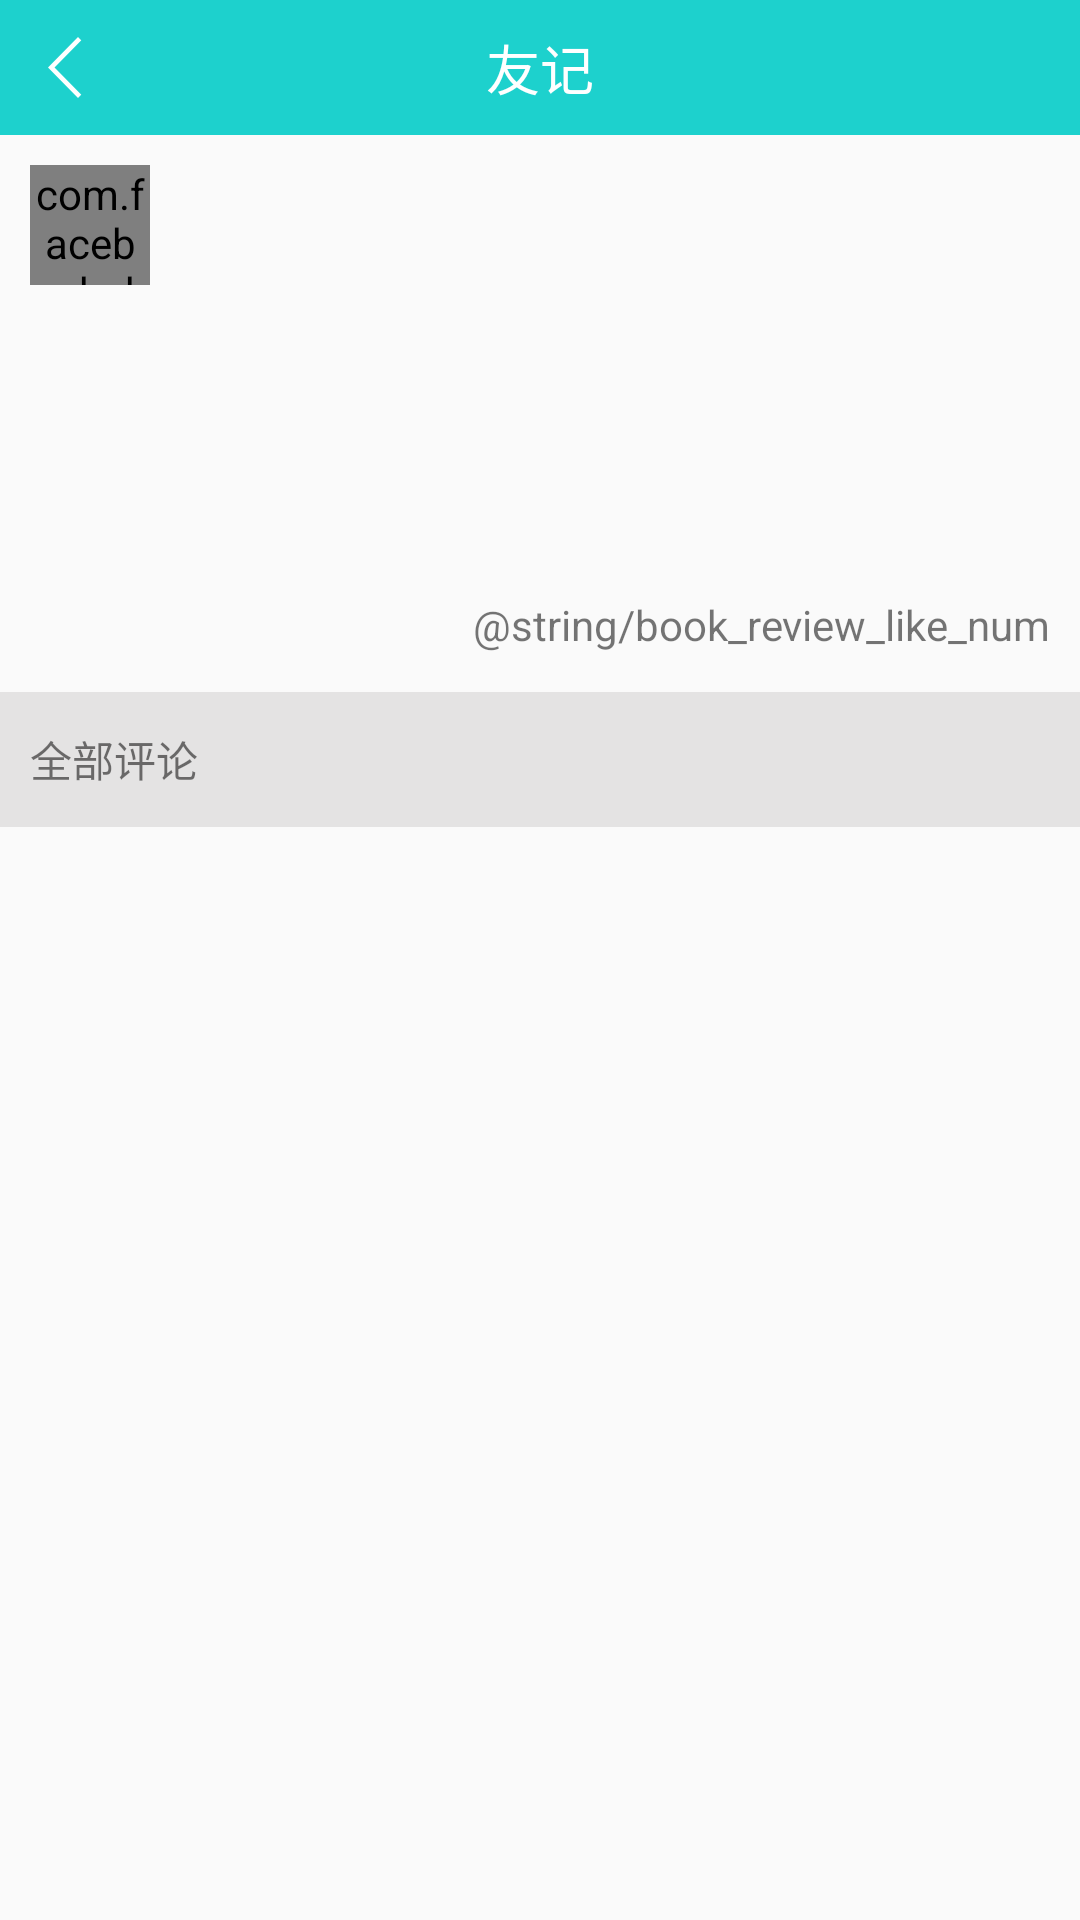

Named icons in this screenshot (1080w x 1920h) and their centers, (x,y):
title back: (64,67)
